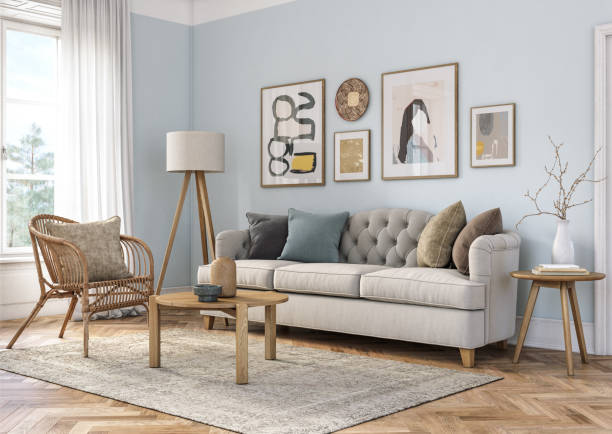chair: (3, 212, 159, 359)
floor lamp: (156, 128, 228, 290)
flower vase: (276, 122, 360, 254)
side table: (510, 269, 607, 379)
sofa: (194, 200, 521, 368)
table: (146, 283, 291, 387)
wall art: (378, 60, 460, 181), (256, 77, 327, 188), (468, 100, 517, 167), (332, 127, 372, 183), (334, 75, 370, 122)
